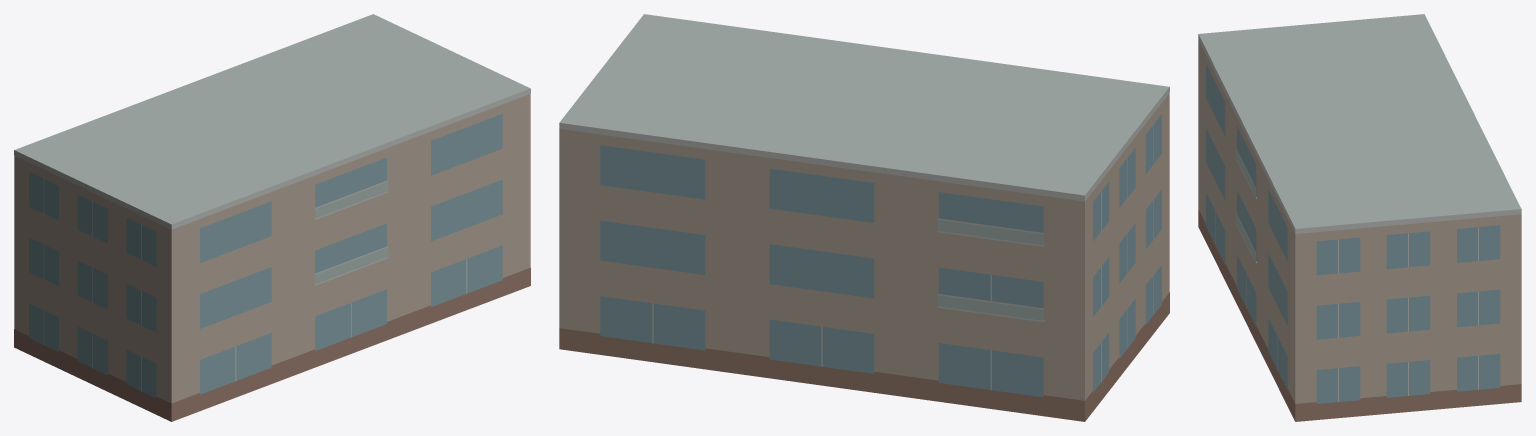
The model's file is survey-upis-32987392.glb.
3 renders of one model, left to right at view 1: azimuth 30°, elevation 25°; view 2: azimuth 150°, elevation 25°; view 3: azimuth 270°, elevation 25°, orthographic. The views are drawn at different scales.
Visible parts, largest first — view 1: survey-upis-32987392.tmp; view 2: survey-upis-32987392.tmp; view 3: survey-upis-32987392.tmp.
Boxes of the visible parts, x1,y1,x2,y2 form: survey-upis-32987392.tmp: (14,14,530,421); survey-upis-32987392.tmp: (559,14,1169,421); survey-upis-32987392.tmp: (1198,14,1521,421).
Bounding box in the file's own units: 21.86 × 9.15 × 13.89.
